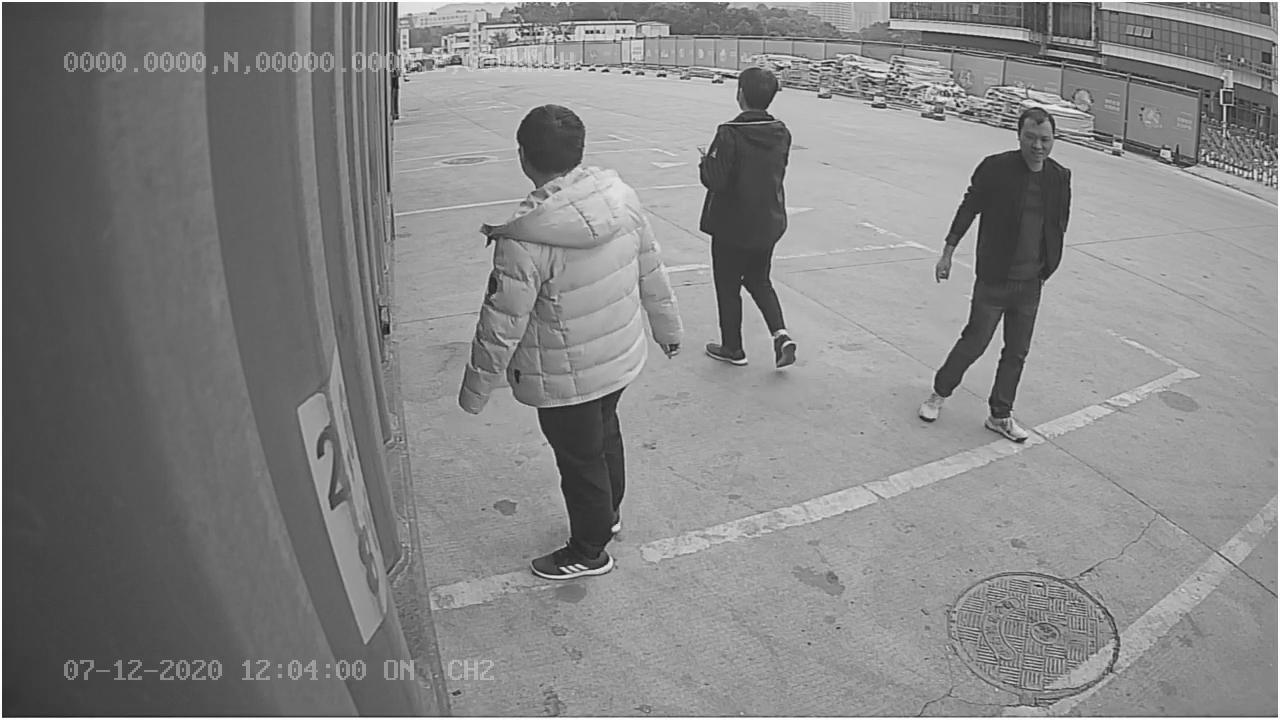person: (451, 100, 685, 581), (916, 98, 1071, 443), (697, 63, 807, 371)
